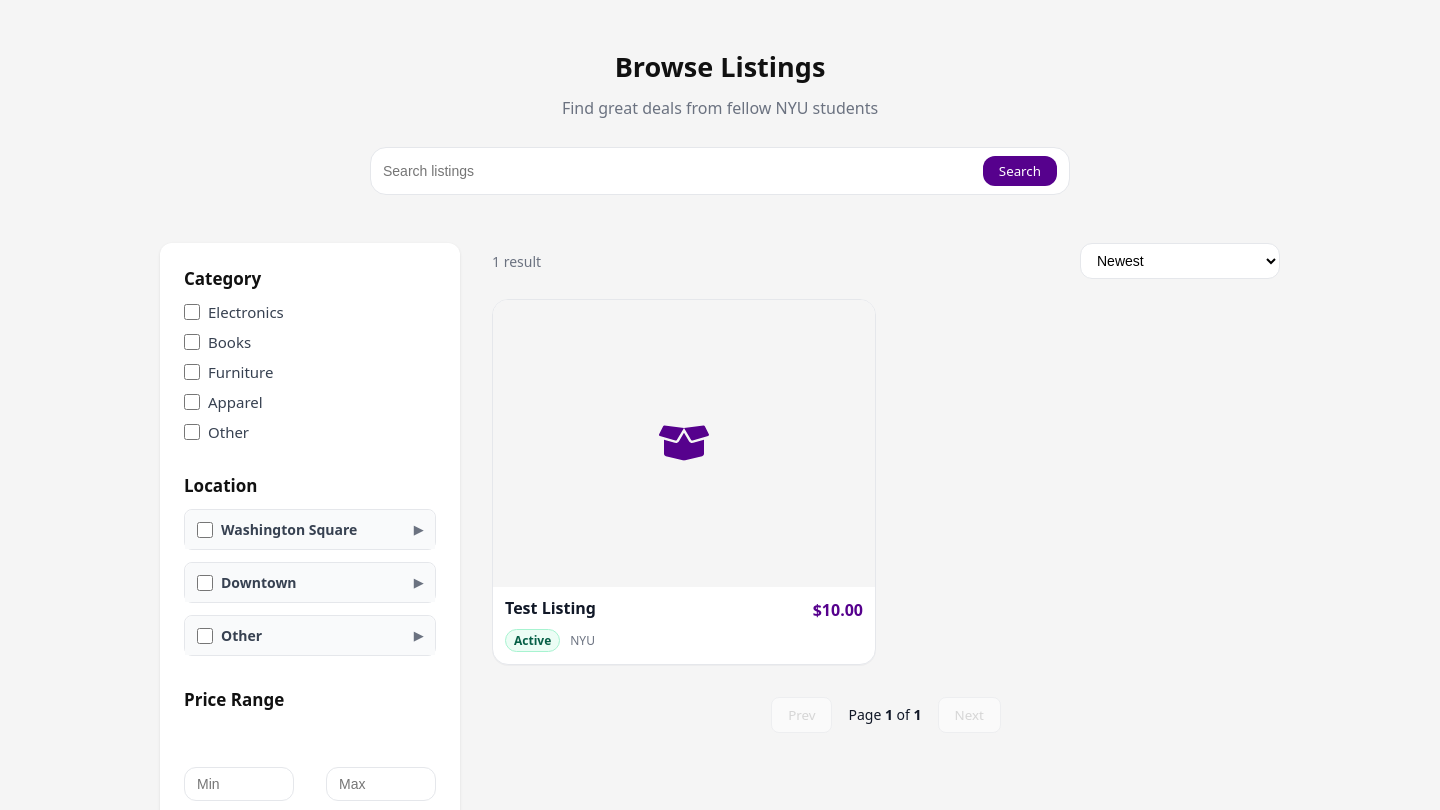
BrowseListings integration › shows listings and allows searching
This screenshot has width=1440, height=810.
Expected: the heading "Test Listing" is shown, [505,596,596,618]
Type "noresults" into the field with placeholder "Search listings".
click(679, 171); type("noresults")  # box [383,156,975,186]
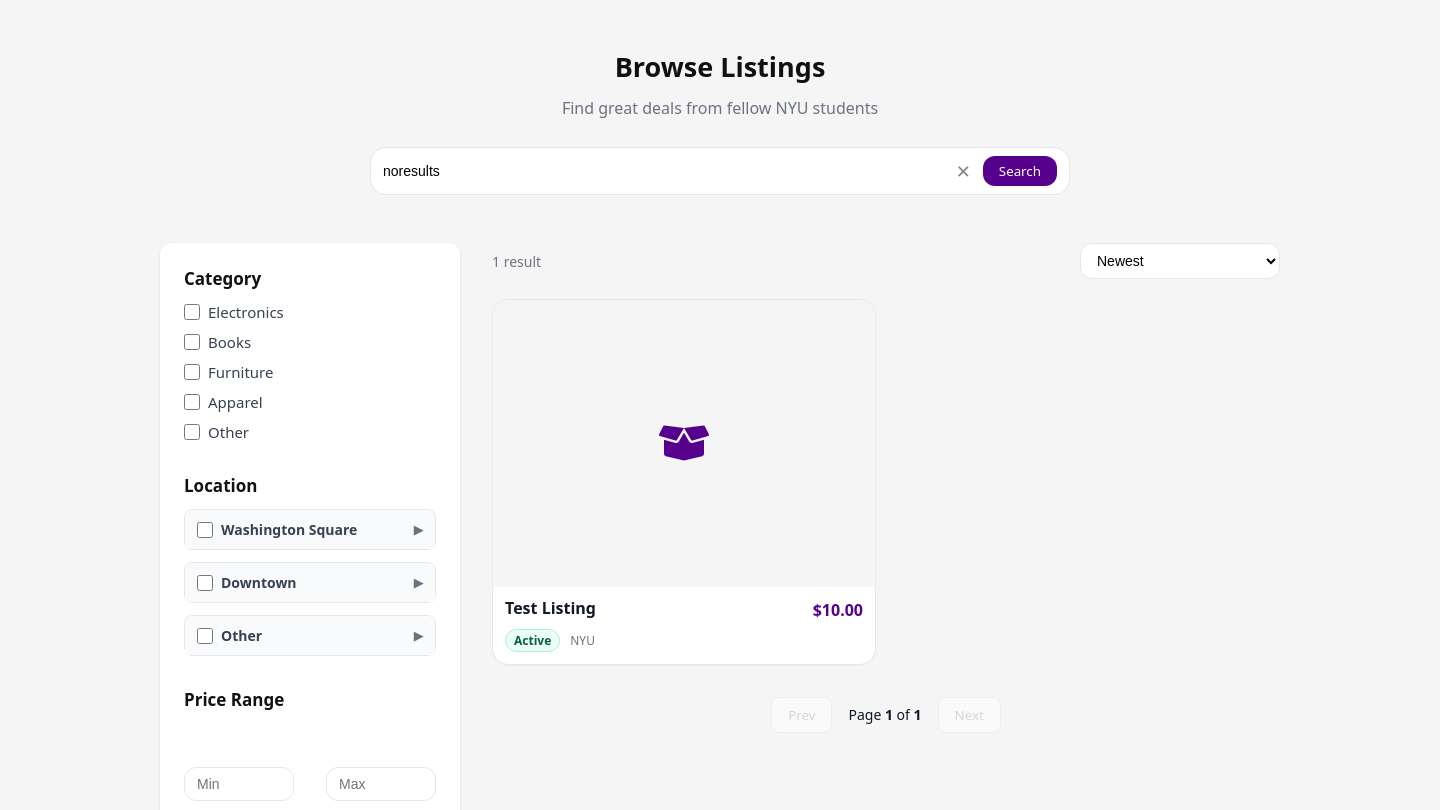
Click the button "Search".
click(1020, 171)  # box [983,156,1057,186]
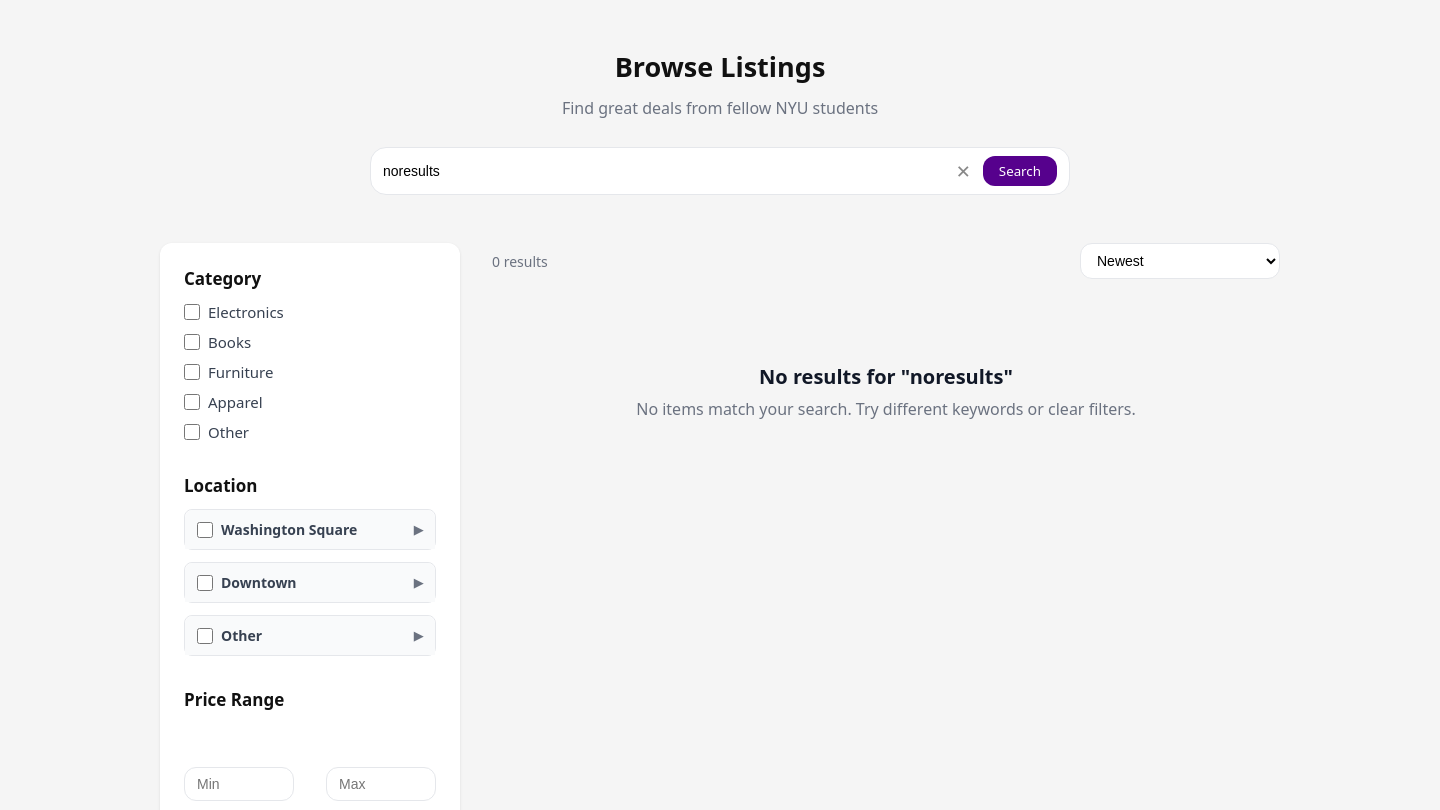
Expected: the heading "No results for \"noresults\"" is shown, [759,363,1013,390]
